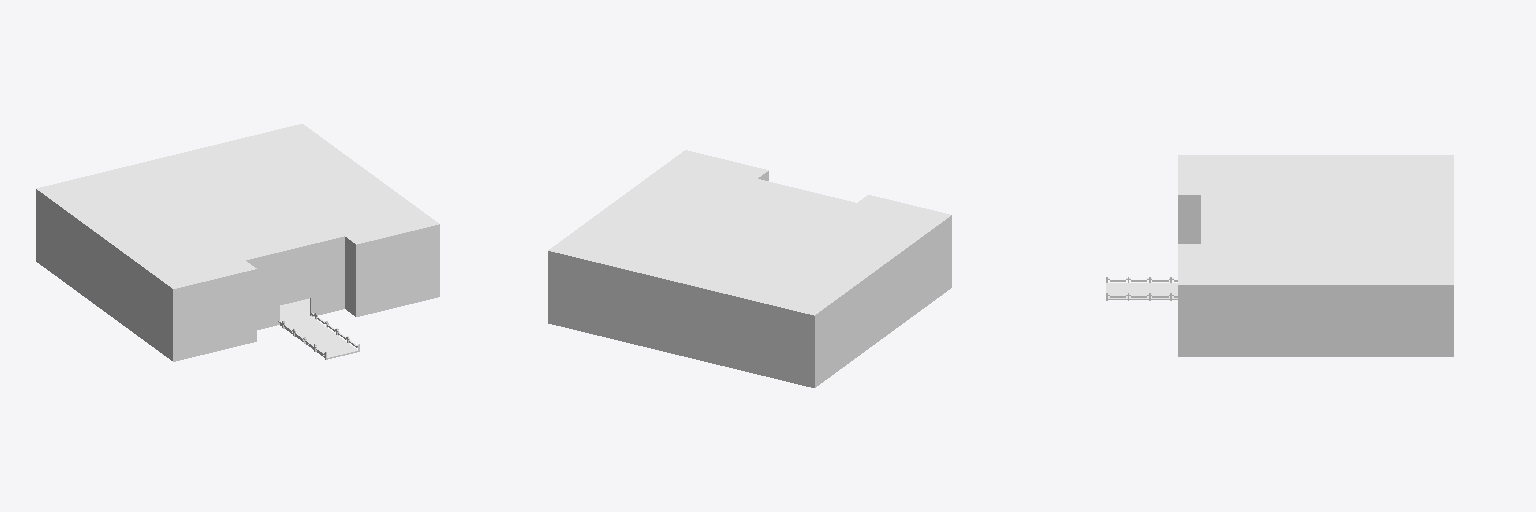
File: casino.obj
The picture shows the model from 3 angles: view 1: azimuth 30°, elevation 25°; view 2: azimuth 150°, elevation 25°; view 3: azimuth 270°, elevation 25°; orthographic projection.
Visible parts, largest first — view 1: object 1; view 2: object 1; view 3: object 1.
Boxes of the visible parts, <box> form: object 1: <box>36,124,439,361</box>; object 1: <box>548,150,951,387</box>; object 1: <box>1106,155,1453,356</box>.
Bounding box in the file's own units: 18.8 × 4.9 × 21.2.